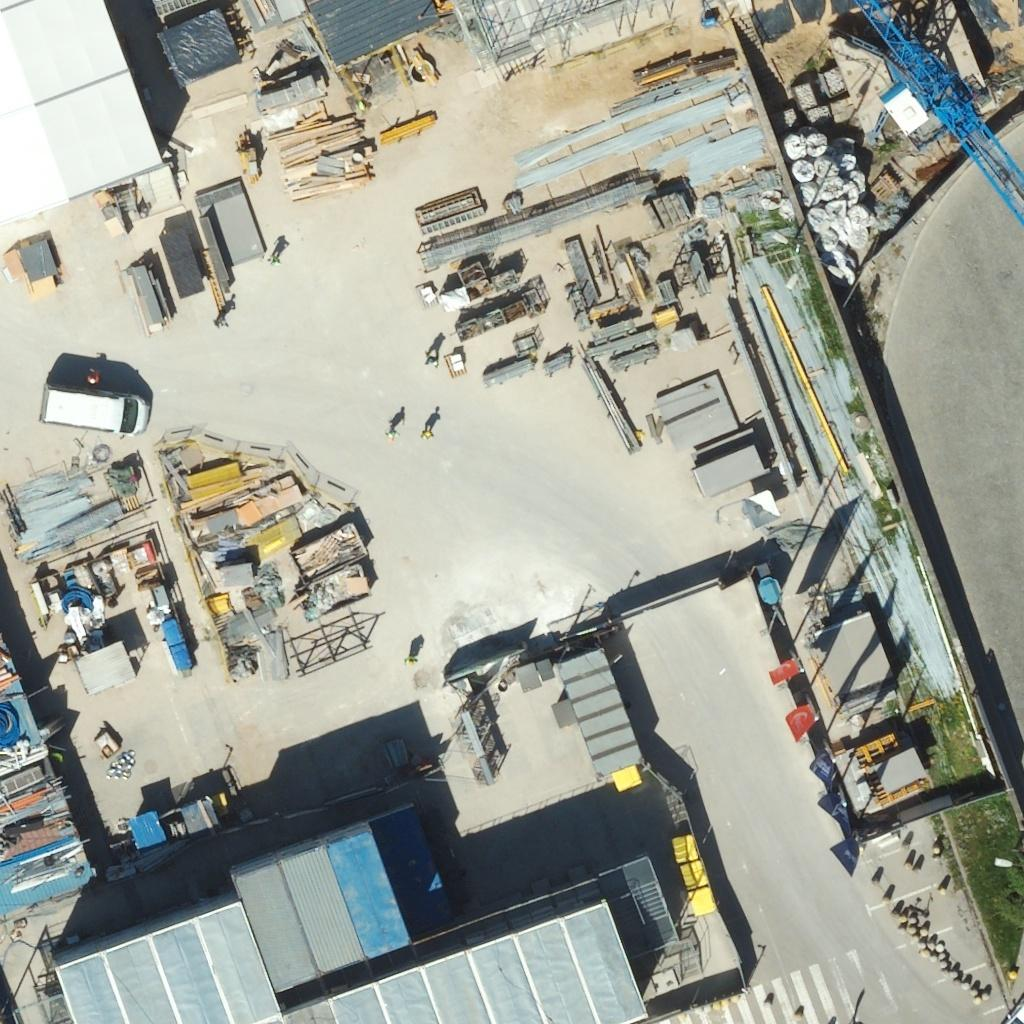pracownik: (386, 406, 404, 440), (421, 407, 439, 438), (269, 236, 288, 265), (405, 636, 423, 664), (86, 368, 98, 384), (386, 428, 396, 440), (421, 429, 432, 437)
samochod_osobowy: (40, 353, 151, 434)
zuraw_wiezowy: (855, 0, 1023, 224)
